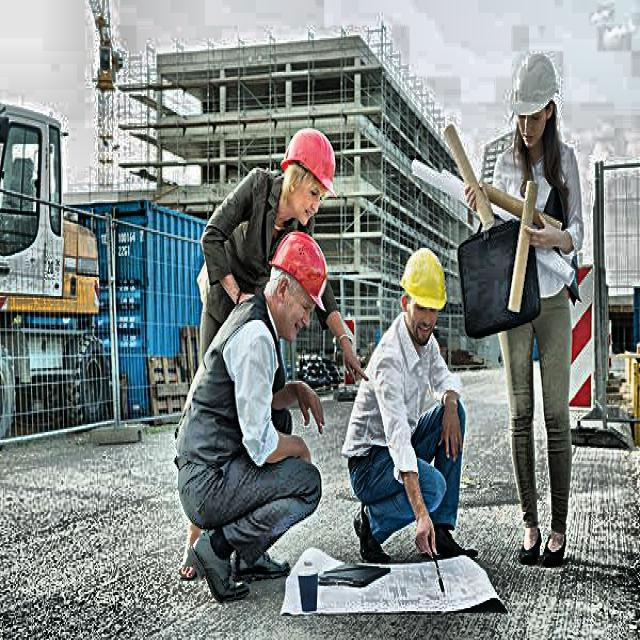helmet: (261, 221, 338, 344), (271, 115, 340, 234), (510, 42, 561, 163), (400, 242, 447, 347)
